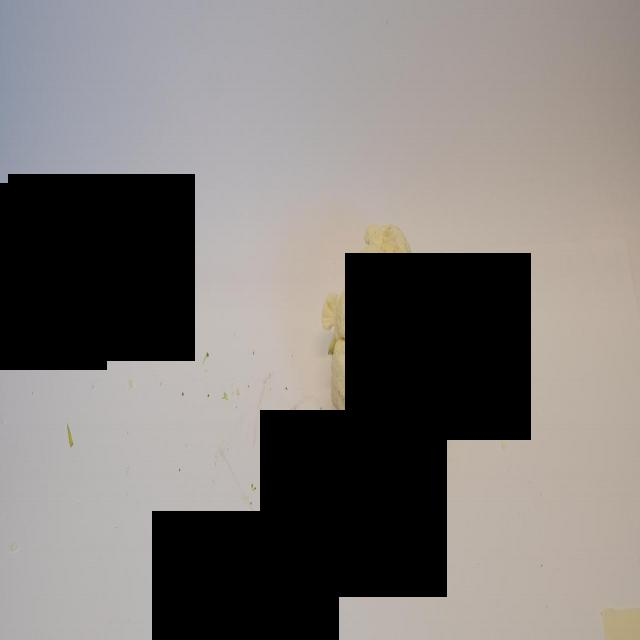cauliflower: (312, 197, 462, 479)
